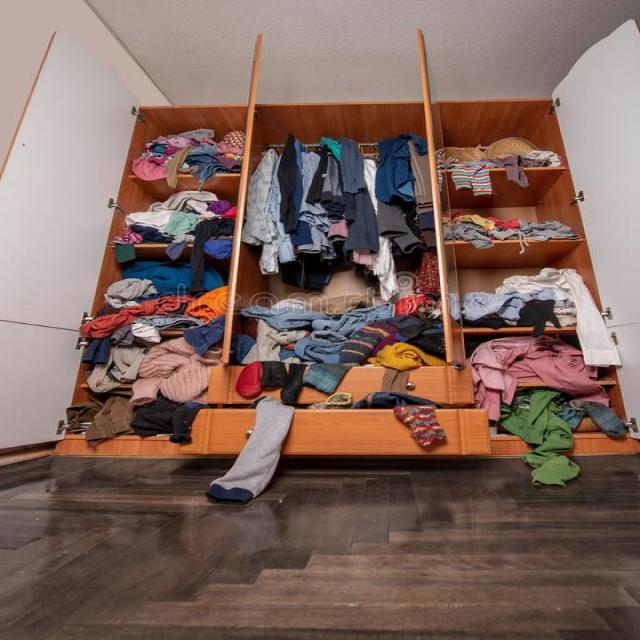clothes: (262, 150, 423, 416)
